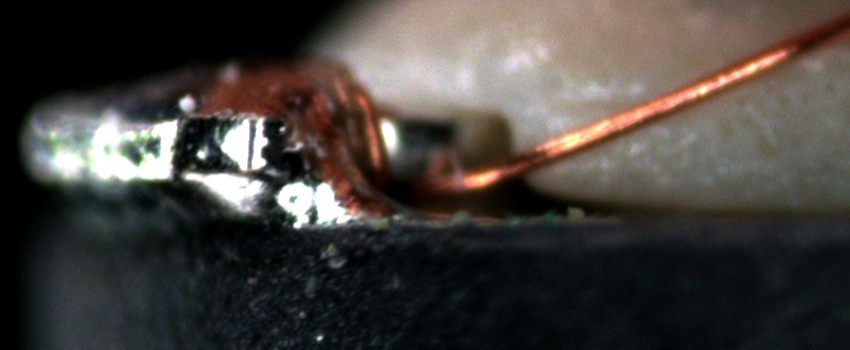DL: (551, 72, 644, 142)
TE: (331, 66, 399, 190)
